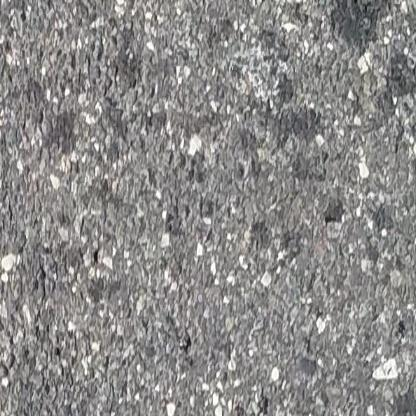Cracks: (0, 22, 6, 273)
